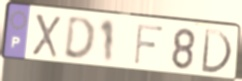1: (97, 18, 114, 66)
8: (170, 27, 197, 72)
D: (199, 27, 234, 76), (62, 15, 97, 63)
F: (132, 22, 166, 68)
X: (30, 12, 63, 60)
